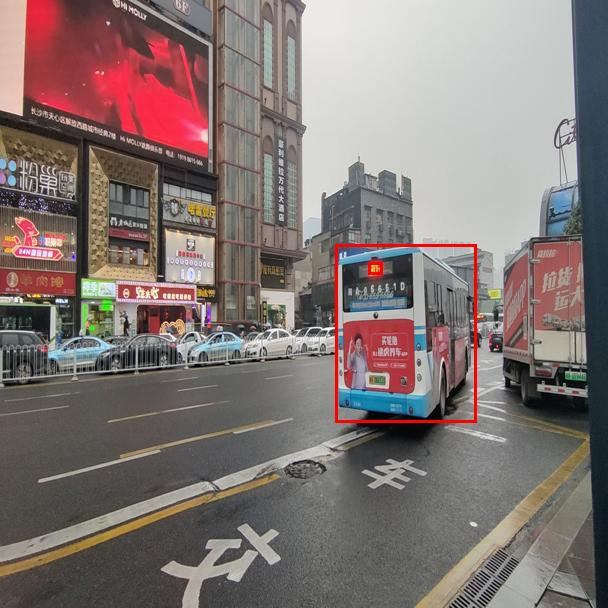bus: (335, 244, 476, 422)
screen: (368, 262, 382, 274)
